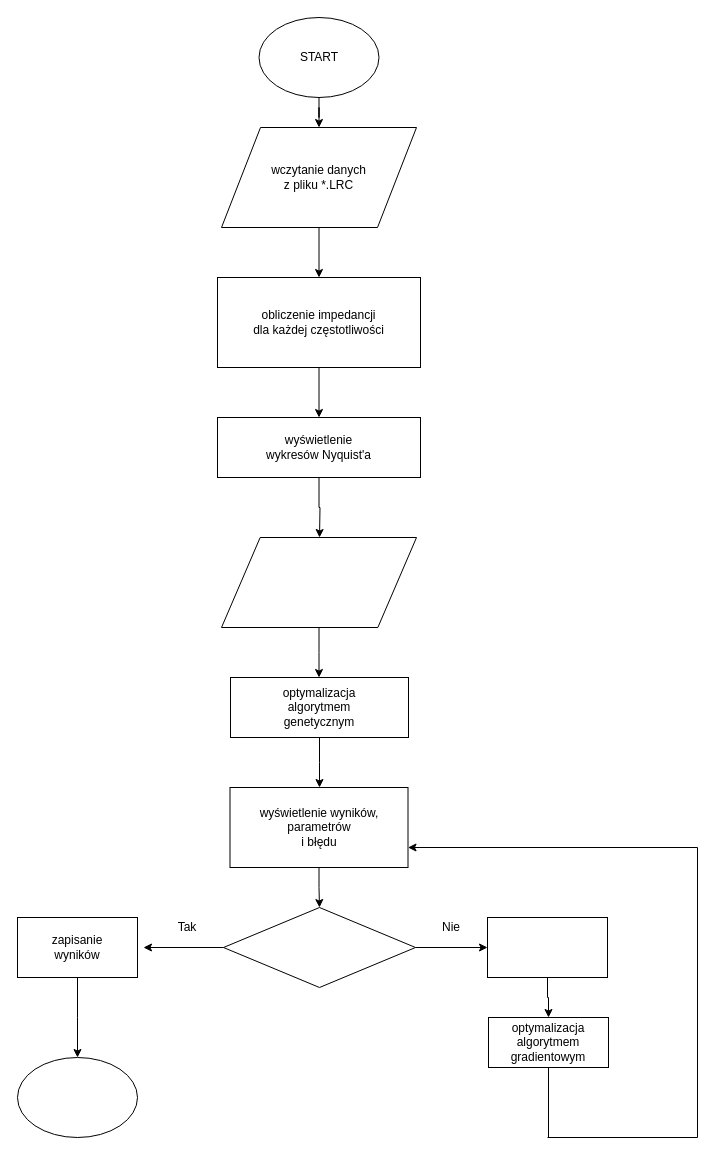
This 723x1156 diagram has some shape labels left out. Each missing label, with the centre of its shape:
"Czy wynik jest zadowalający?" belongs at (319,947).
"dobranie częstotliwości" belongs at (547,947).
"KONIEC" belongs at (77,1097).
"wczytanie modułów i granic parametrów" belongs at (318,582).
